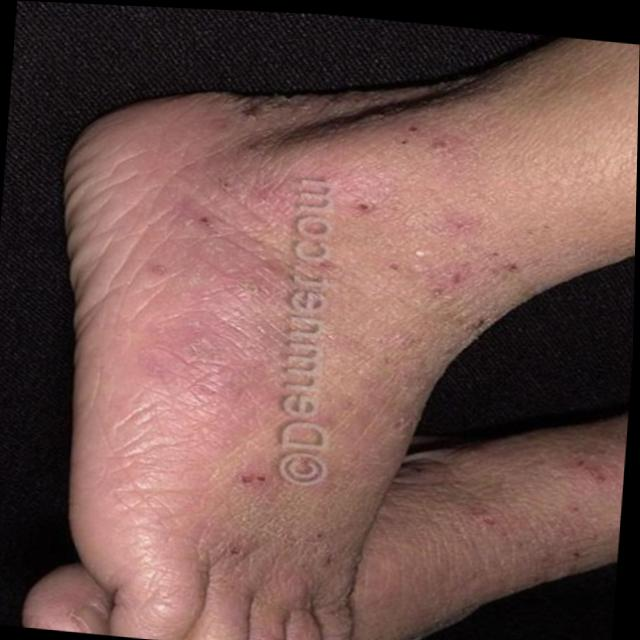Eczema: (138, 116, 479, 638), (507, 413, 593, 553)
